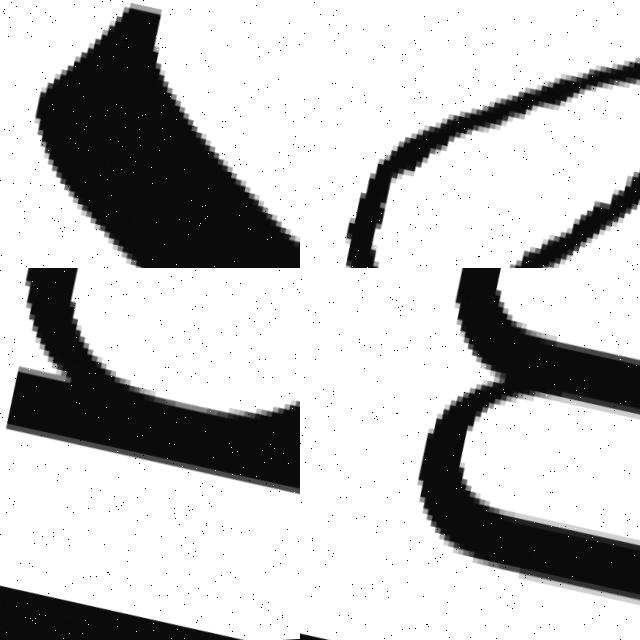D: (300, 0, 640, 268)
G: (0, 268, 300, 579)
M: (344, 268, 640, 640)
X: (0, 0, 300, 268)
